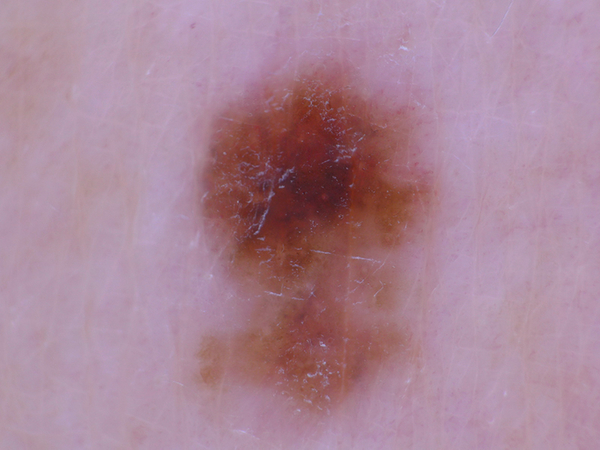Detected Lesion: (188, 62, 441, 413)
